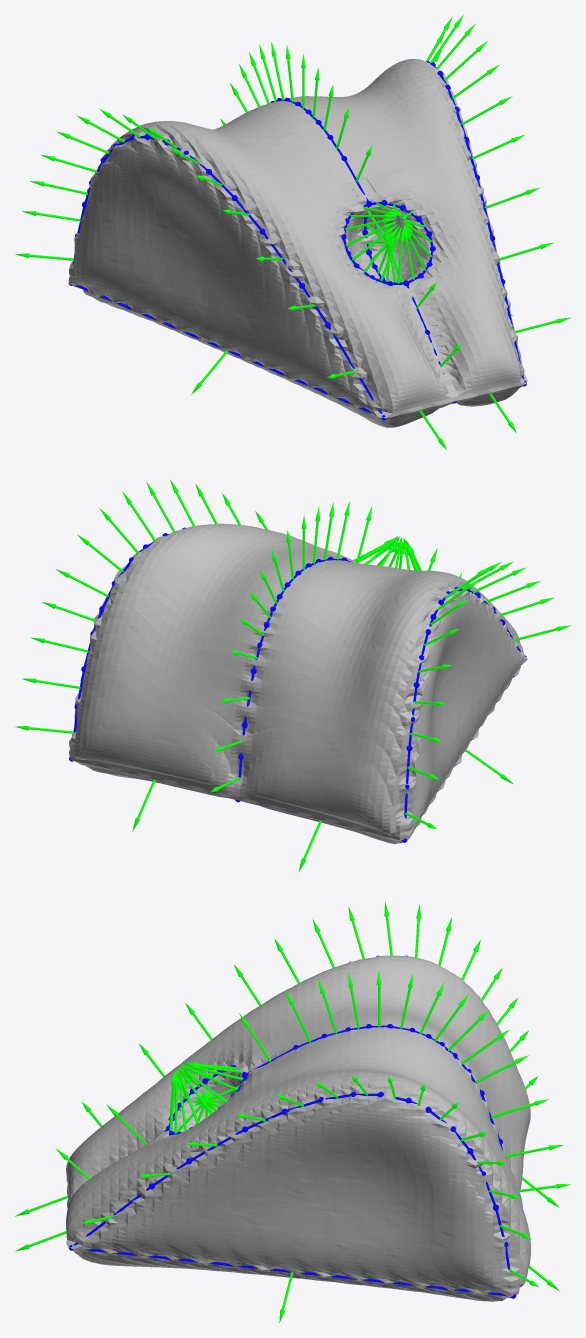
The model's file is onshape_simple_mouse.gltf.
The picture shows the model from 3 angles, top to bottom: view 1: azimuth 30°, elevation 25°; view 2: azimuth 150°, elevation 25°; view 3: azimuth 270°, elevation 25°; orthographic projection. The views are drawn at different scales.
Size of the model in its own units: 0.7986 by 0.5275 by 0.8921.
